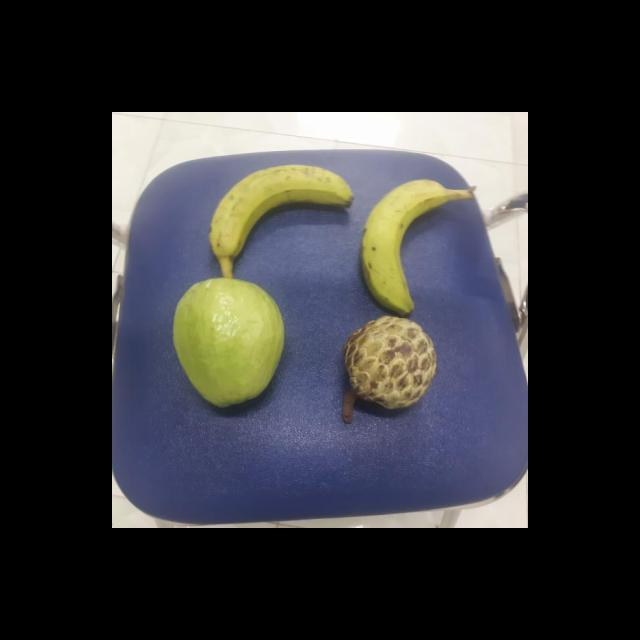Sakya fruit: (336, 314, 439, 414)
banana: (206, 157, 354, 260), (354, 173, 450, 316)
guava: (171, 278, 288, 408)
